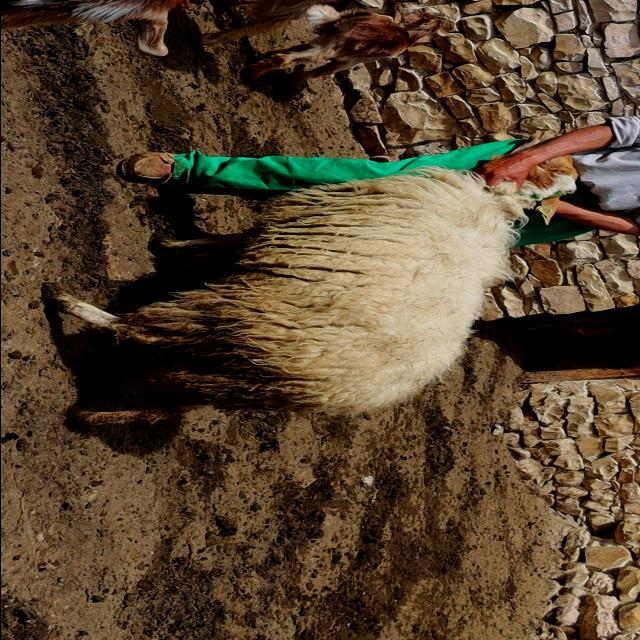Score_4: (42, 158, 577, 427)
